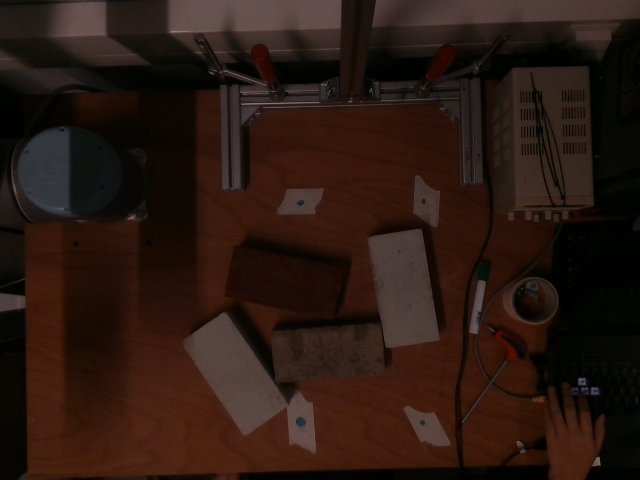brick: (181, 313, 287, 434), (223, 246, 344, 321), (369, 229, 440, 345), (277, 323, 385, 382)
